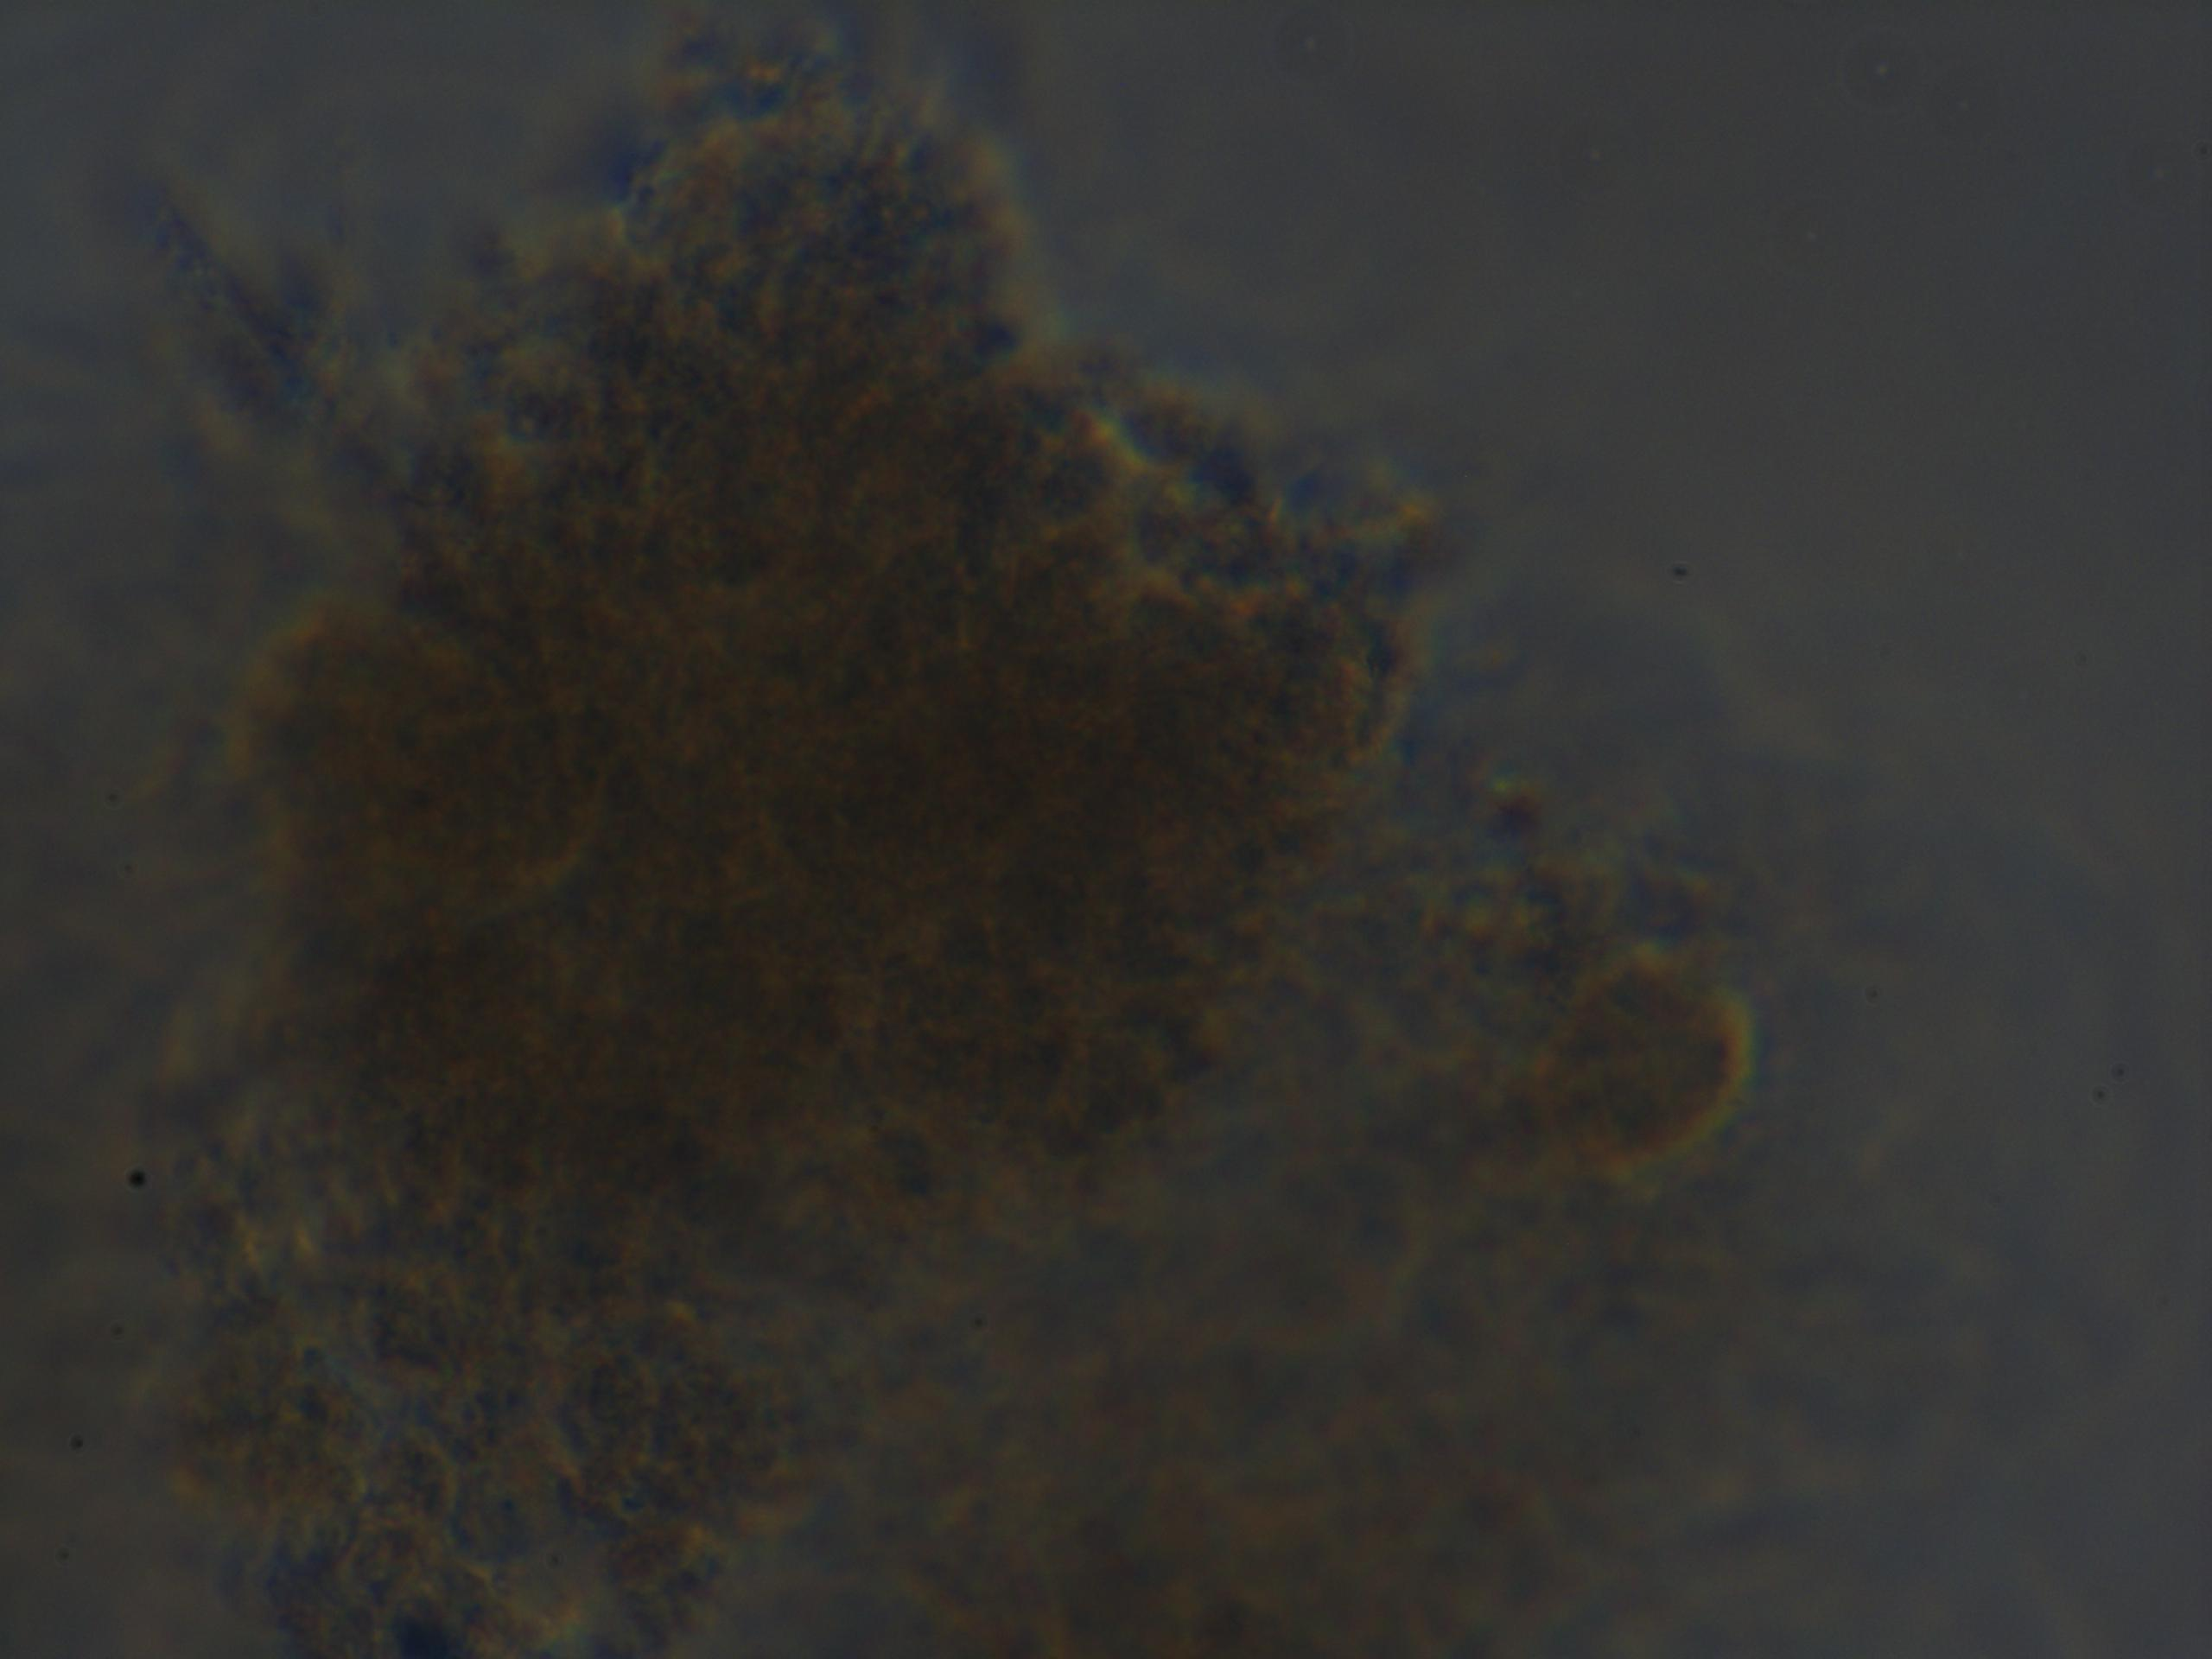spherical_floc: (202, 68, 1426, 1340)
